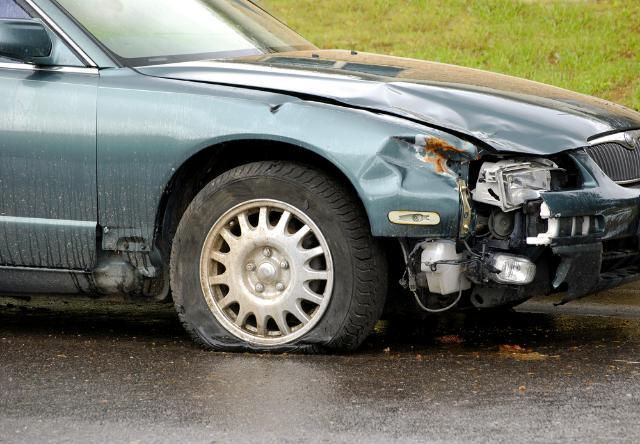dent: (333, 80, 589, 152), (357, 132, 476, 202), (265, 96, 303, 117)
lamp broken: (463, 144, 590, 206)
no part: (374, 194, 570, 319), (91, 227, 165, 304)
tire flat: (170, 156, 388, 356)
